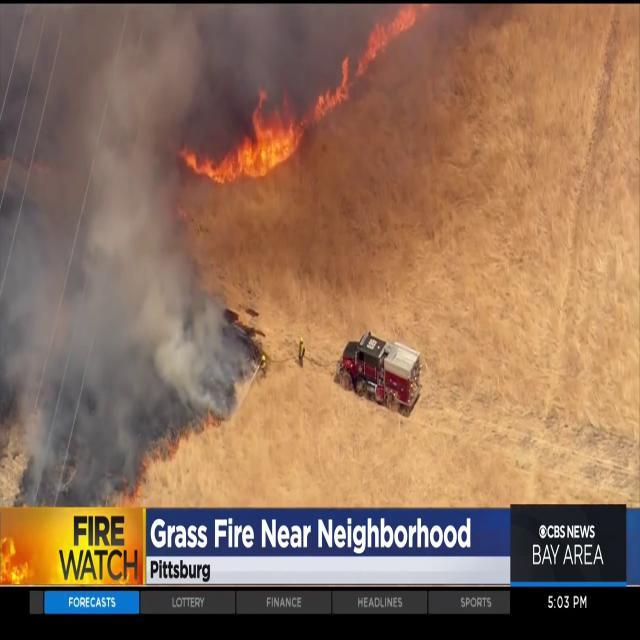Fire: (178, 88, 306, 184), (362, 3, 420, 69), (314, 48, 352, 116)
Smoke: (0, 2, 230, 471)
